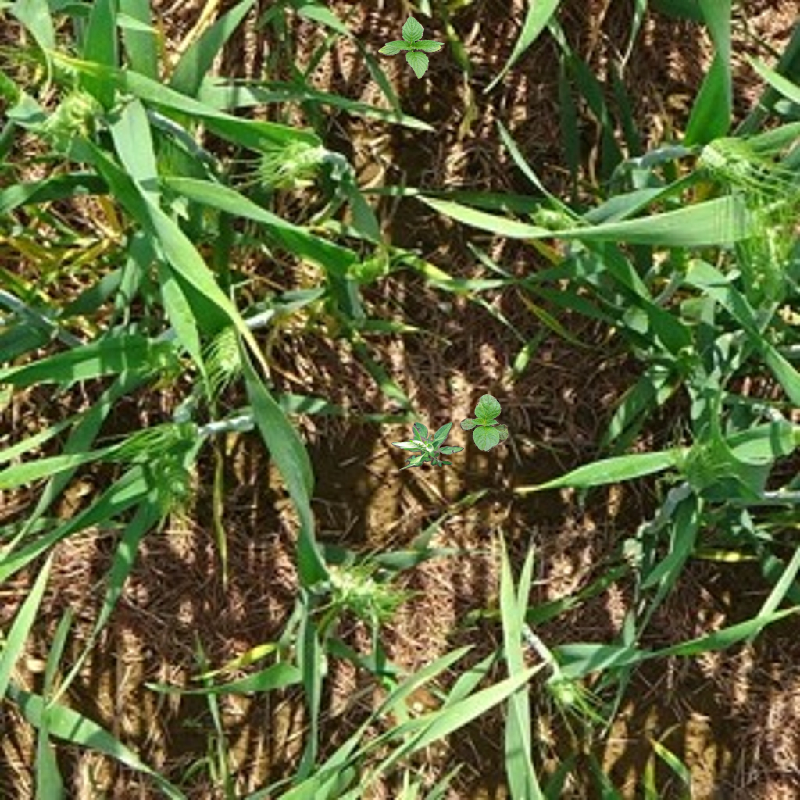spikelet: (55, 68, 120, 129), (258, 136, 334, 179), (324, 562, 389, 611), (695, 137, 754, 182), (674, 440, 720, 495), (210, 324, 245, 374), (342, 244, 387, 281), (545, 669, 587, 708)
weed: (378, 16, 445, 79), (391, 422, 464, 471), (460, 394, 509, 452)
